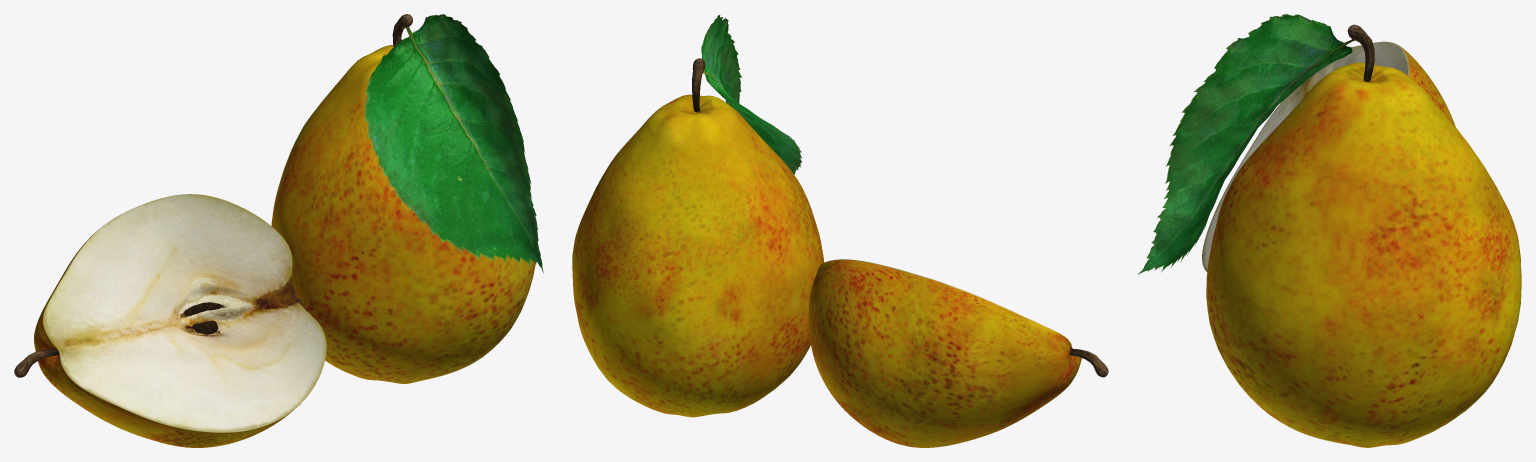
The model's file is Nok.fbx.
3 views of the same model, side by side, from view 1: azimuth 30°, elevation 25°; view 2: azimuth 150°, elevation 25°; view 3: azimuth 270°, elevation 25° (orthographic). The views are drawn at different scales.
Visible parts, largest first — view 1: Open3DModel (1) (8); view 2: Open3DModel (1) (8); view 3: Open3DModel (1) (8).
Part boxes in pixels (<box>): Open3DModel (1) (8): <box>14,14,543,447</box>; Open3DModel (1) (8): <box>572,14,1108,447</box>; Open3DModel (1) (8): <box>1137,14,1521,447</box>.
Size of the model in its own units: 531 by 359 by 296.
3 materials, 3 textured.
